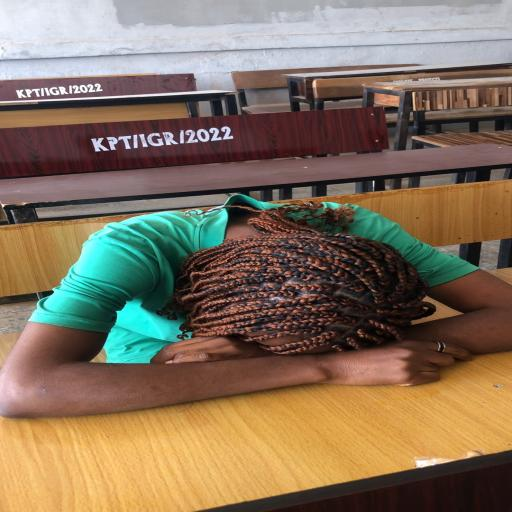Sleeping: (1, 186, 512, 419)
